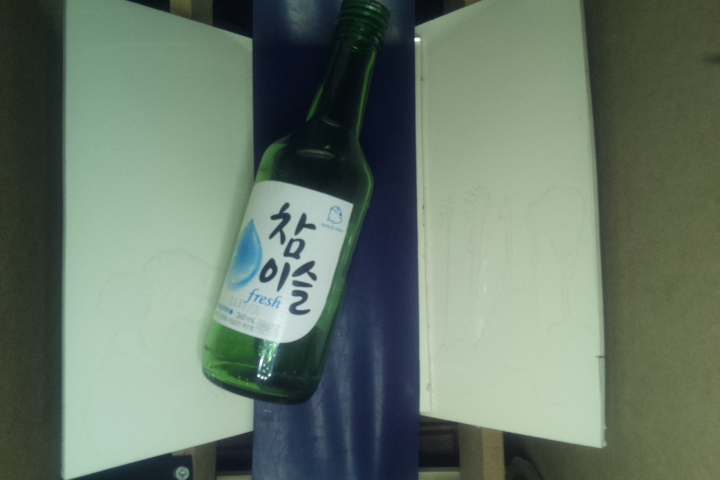soju: (203, 1, 400, 407)
